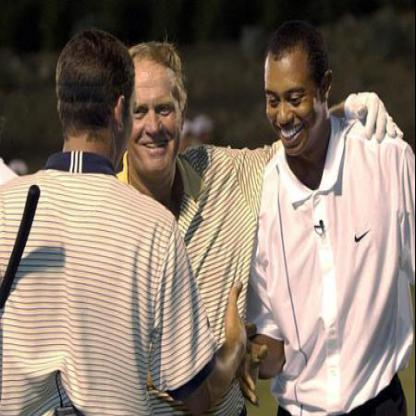face: (123, 45, 184, 181), (265, 34, 324, 159)
